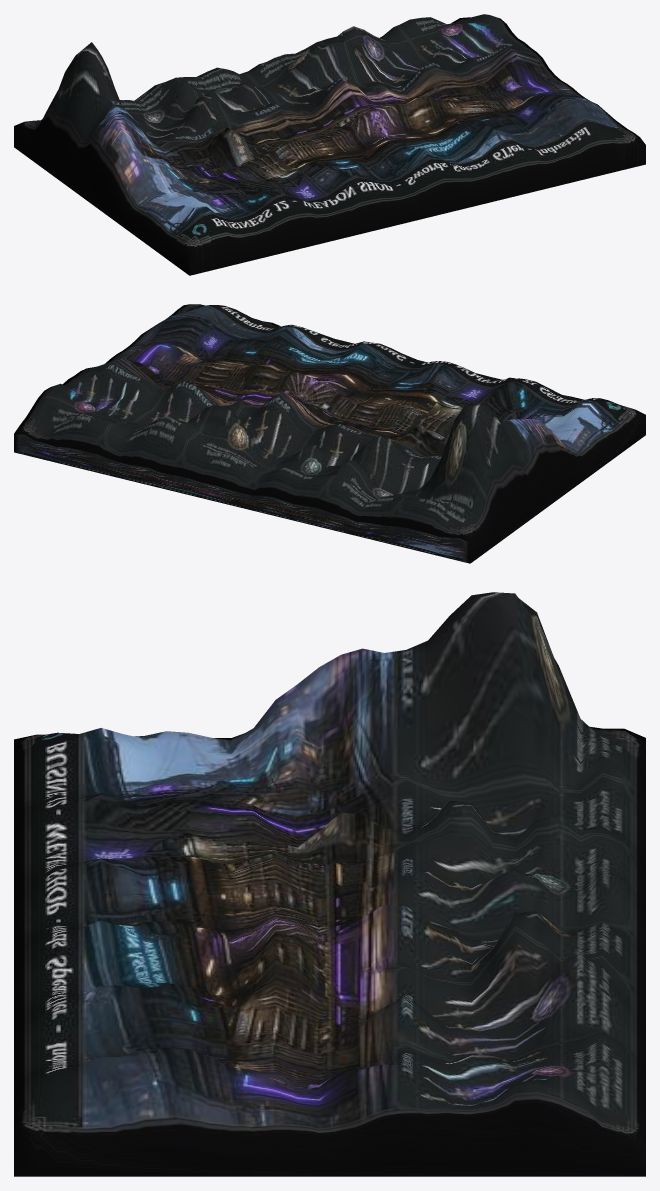
File: BUSINESS_12_Weapon_Shop.glb
3 renders of one model, top to bottom at view 1: azimuth 30°, elevation 25°; view 2: azimuth 150°, elevation 25°; view 3: azimuth 270°, elevation 25°, orthographic. The views are drawn at different scales.
Parts seen in each view (by area): view 1: BUSINESS_12_Weapon_Shop; view 2: BUSINESS_12_Weapon_Shop; view 3: BUSINESS_12_Weapon_Shop.
Boxes of the visible parts, bbox=[...] form: BUSINESS_12_Weapon_Shop: bbox=[14, 14, 645, 275]; BUSINESS_12_Weapon_Shop: bbox=[14, 304, 645, 563]; BUSINESS_12_Weapon_Shop: bbox=[14, 592, 645, 1176].
Size of the model in its own units: 2 by 0.51 by 1.33.
Materials: 1 (1 with a texture image).
